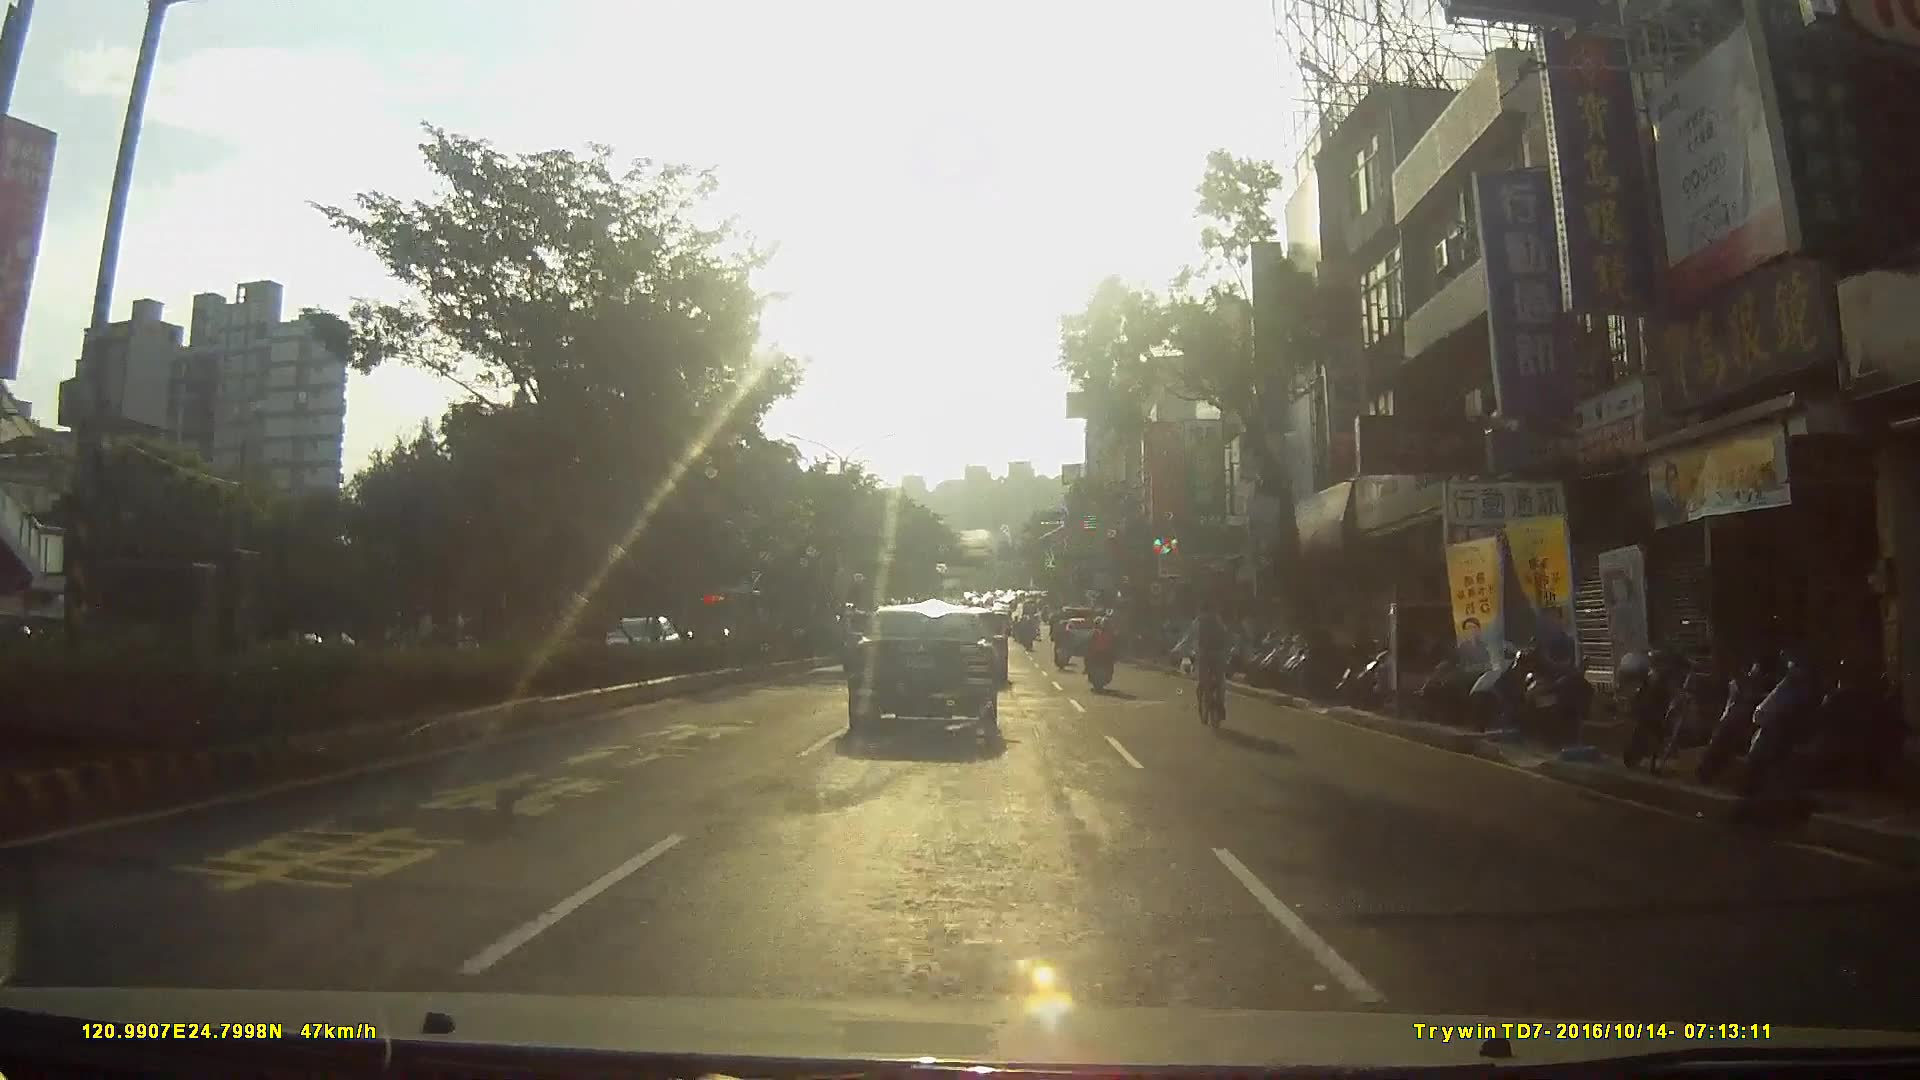rider: (1184, 591, 1246, 732), (1084, 612, 1117, 688), (1052, 616, 1073, 672)
vehicle: (846, 606, 1012, 753)
